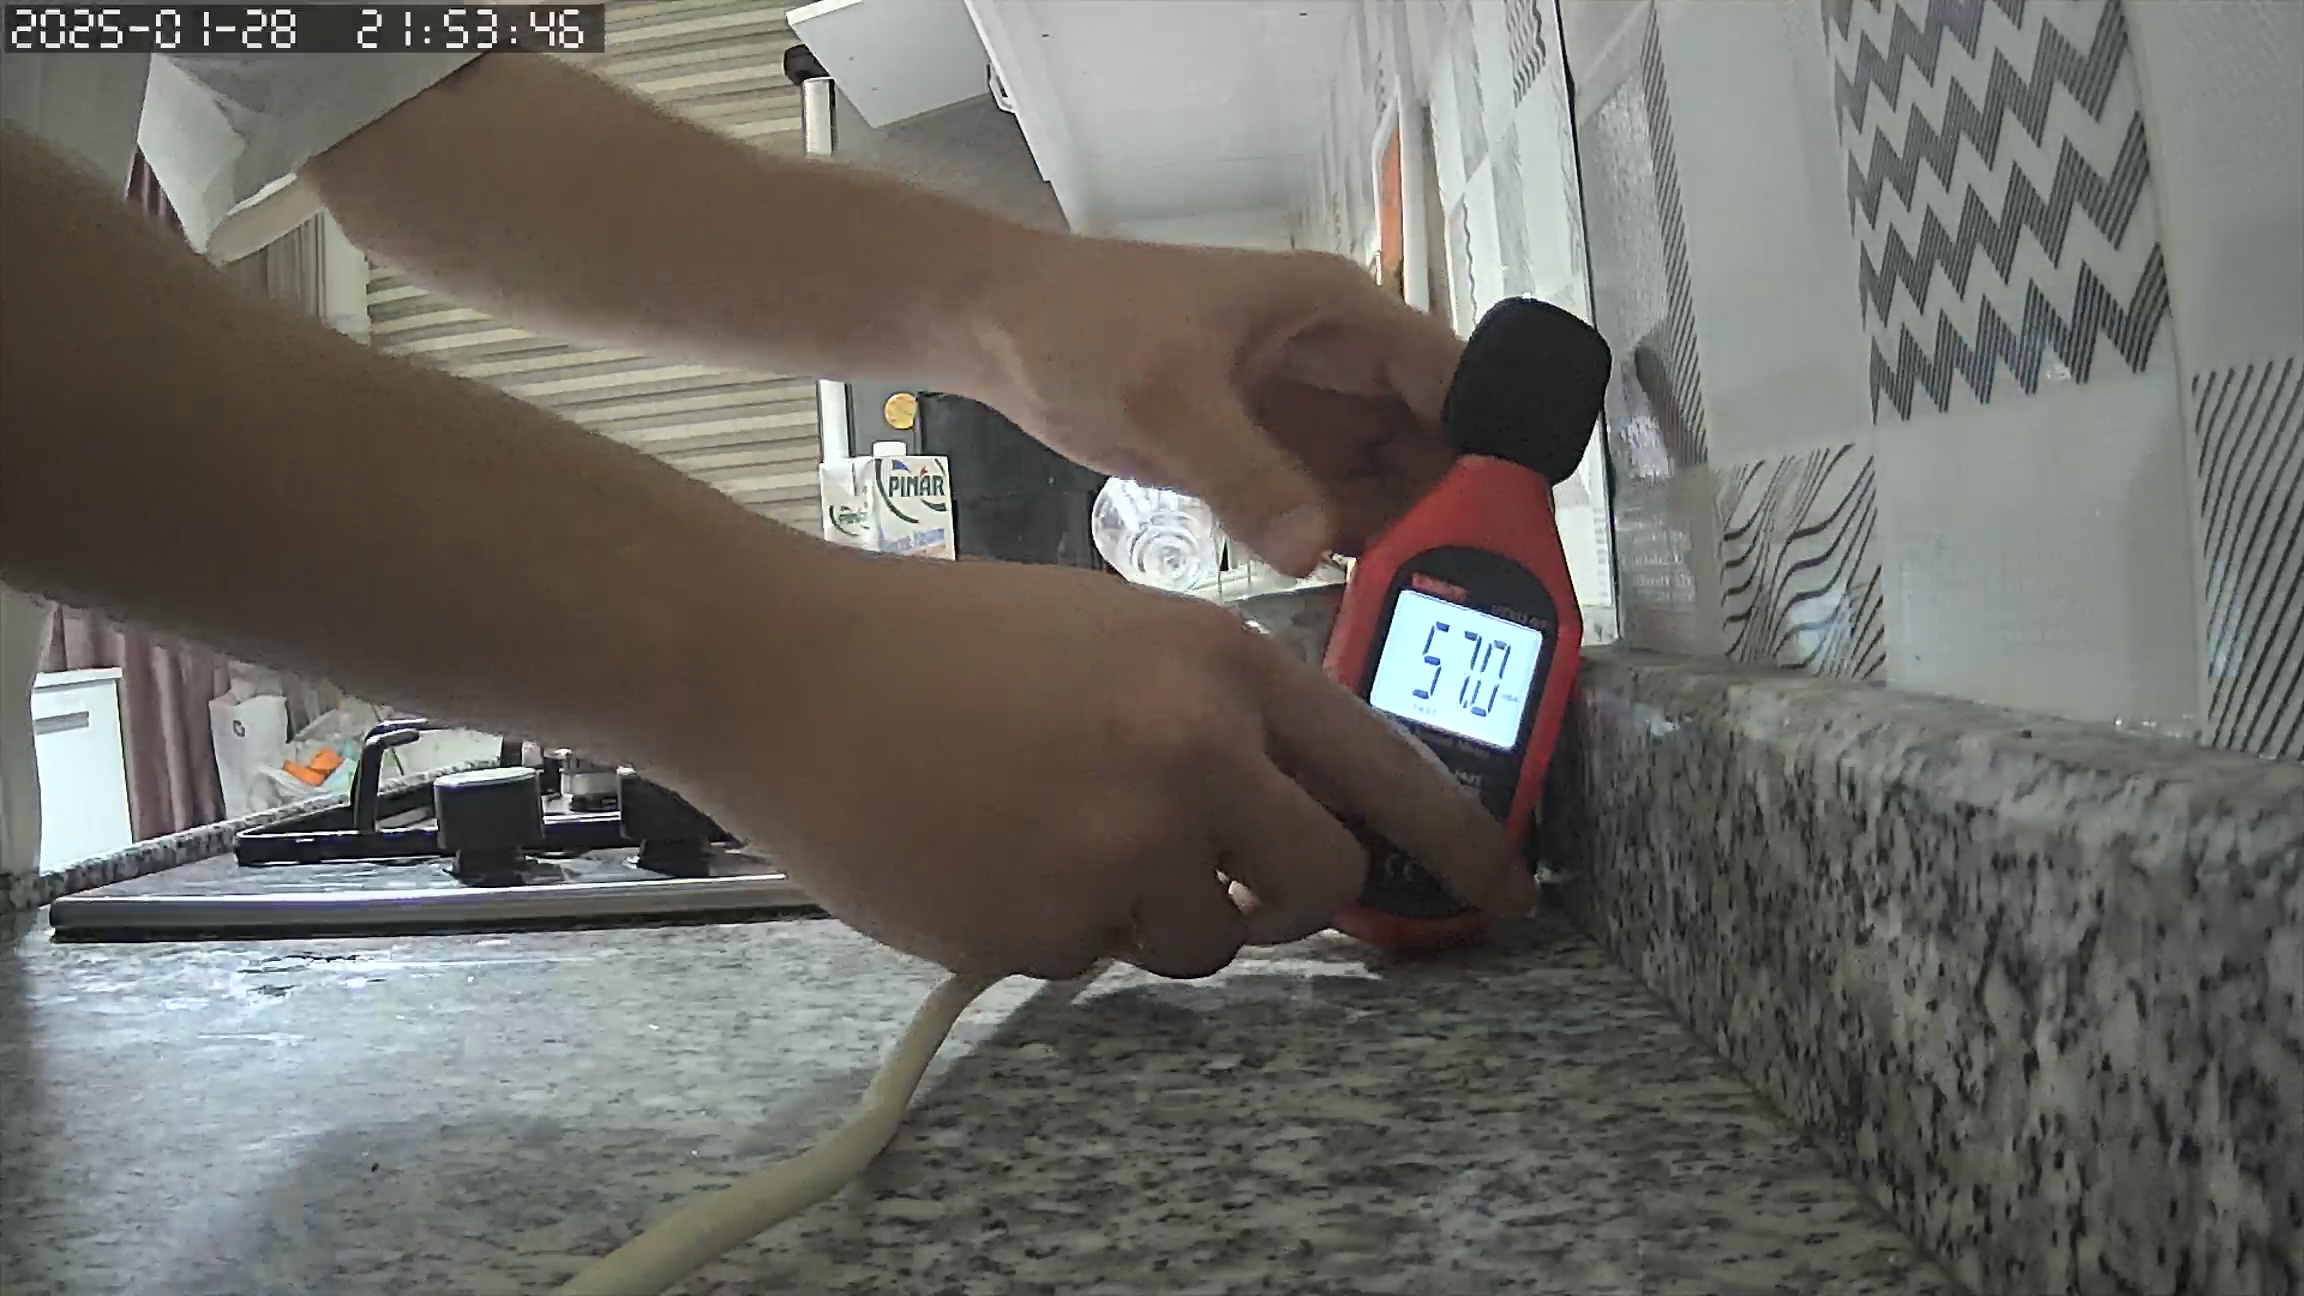screen: (1366, 585, 1541, 753)
